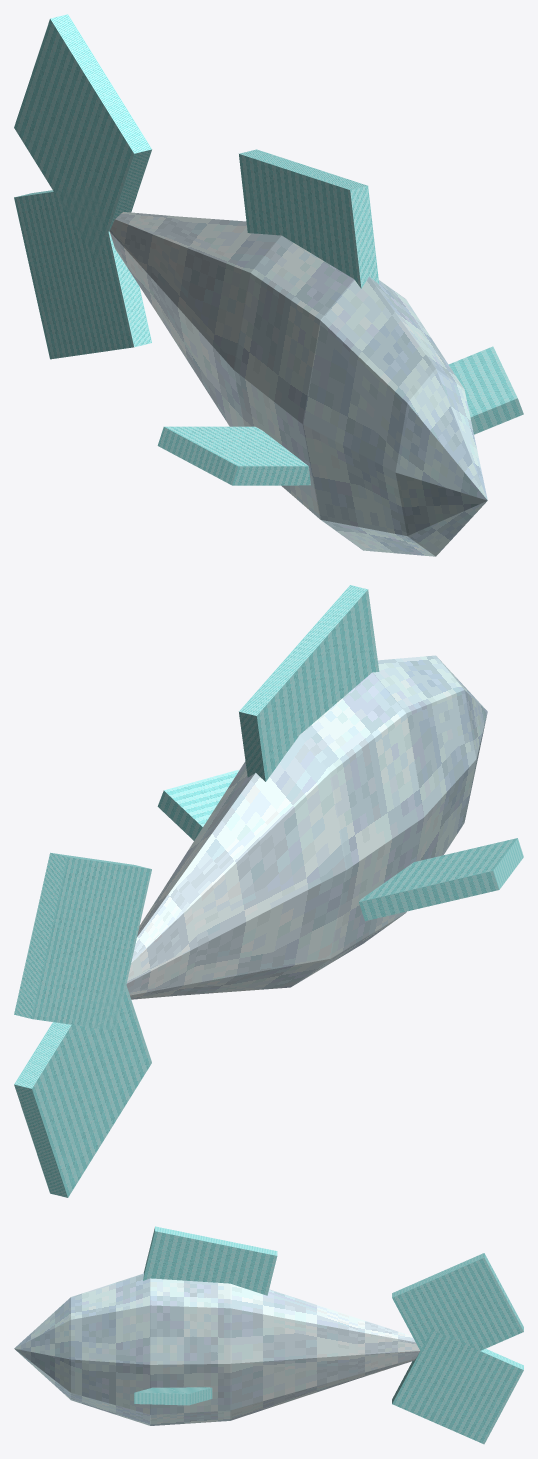
The model's file is peixe_vidro.glb.
The picture shows the model from 3 angles, top to bottom: view 1: azimuth 30°, elevation 25°; view 2: azimuth 150°, elevation 25°; view 3: azimuth 270°, elevation 25°; orthographic projection. The views are drawn at different scales.
Visible parts, largest first — view 1: peixe_vidro; view 2: peixe_vidro; view 3: peixe_vidro.
Part boxes in pixels (bbox=[...]): peixe_vidro: bbox=[14, 14, 523, 556]; peixe_vidro: bbox=[14, 585, 523, 1197]; peixe_vidro: bbox=[14, 1226, 523, 1444].
Size of the model in its own units: 0.3232 by 0.3515 by 0.7615.
Materials: 1 (1 with a texture image).
